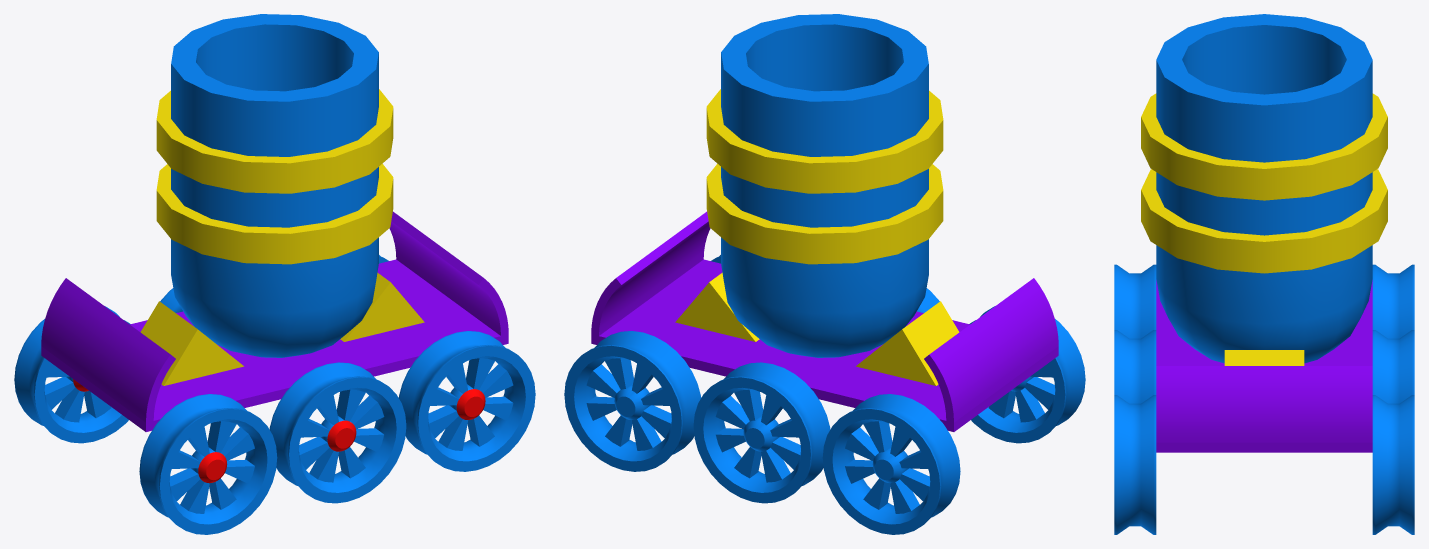
The model's file is Gun05.fbx.
3 views of the same model, side by side, from view 1: azimuth 30°, elevation 25°; view 2: azimuth 150°, elevation 25°; view 3: azimuth 270°, elevation 25° (orthographic). The views are drawn at different scales.
Visible parts, largest first — view 1: Cylinder.039, Cylinder.041, Plane.011, Cylinder.040, Cylinder.045, Plane.010, Cylinder.046; view 2: Cylinder.039, Cylinder.041, Plane.011, Cylinder.040, Cylinder.045, Plane.010, Cylinder.046; view 3: Cylinder.039, Plane.011, Cylinder.045, Plane.010, Cylinder.041, Cylinder.040, Cylinder.046.
Boxes of the visible parts, x1,y1,x2,y2 form: Cylinder.039: [156, 14, 393, 357]; Cylinder.041: [14, 306, 277, 534]; Plane.011: [41, 211, 508, 422]; Cylinder.040: [160, 288, 406, 503]; Cylinder.045: [379, 255, 535, 471]; Plane.010: [41, 259, 508, 431]; Cylinder.046: [140, 272, 424, 385]; Cylinder.039: [706, 14, 943, 357]; Cylinder.041: [822, 306, 1085, 534]; Plane.011: [591, 211, 1058, 422]; Cylinder.040: [693, 288, 939, 503]; Cylinder.045: [564, 255, 720, 471]; Plane.010: [591, 259, 1058, 431]; Cylinder.046: [675, 272, 959, 385]; Cylinder.039: [1141, 14, 1387, 363]; Plane.011: [1156, 366, 1372, 442]; Cylinder.045: [1114, 395, 1414, 534]; Plane.010: [1156, 280, 1372, 452]; Cylinder.041: [1114, 264, 1414, 338]; Cylinder.040: [1114, 330, 1414, 403]; Cylinder.046: [1224, 350, 1304, 365].
Size of the model in its own units: 414 by 412 by 278.
1 material, 1 textured.
